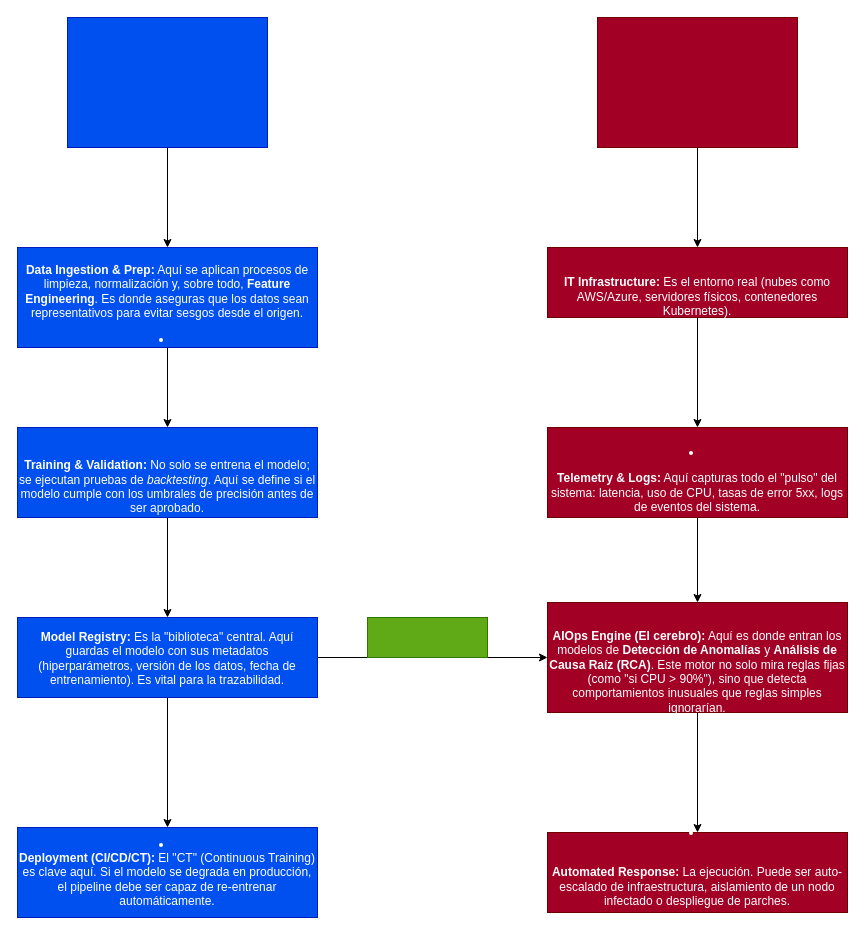
Image size: 865x938. Some labels were removed from this diagram. The centre of each missing label's shape, as x and y in pixels:
AIOps - El Guardián de la Infraestructura: the point at 697,82
Inyecta modelos entrenados: the point at 427,637
MLOps - La Fábrica de Modelos: the point at 167,82
